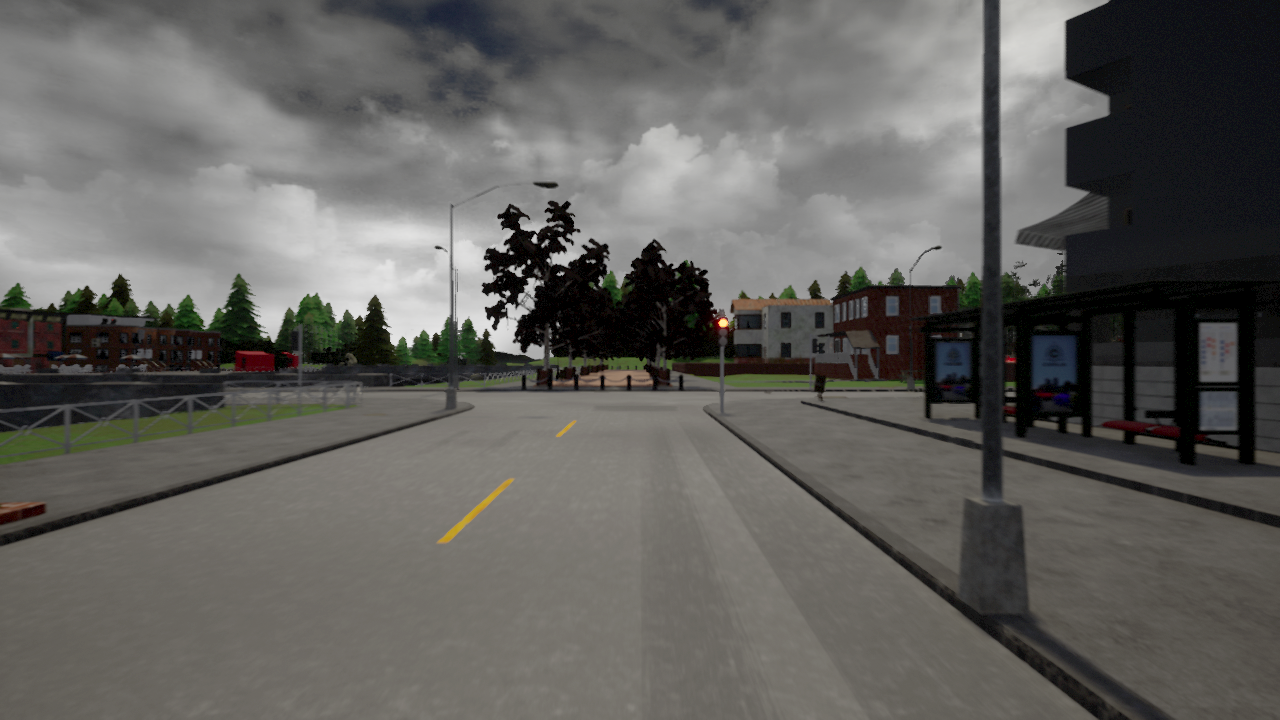red: (715, 316, 730, 346)
